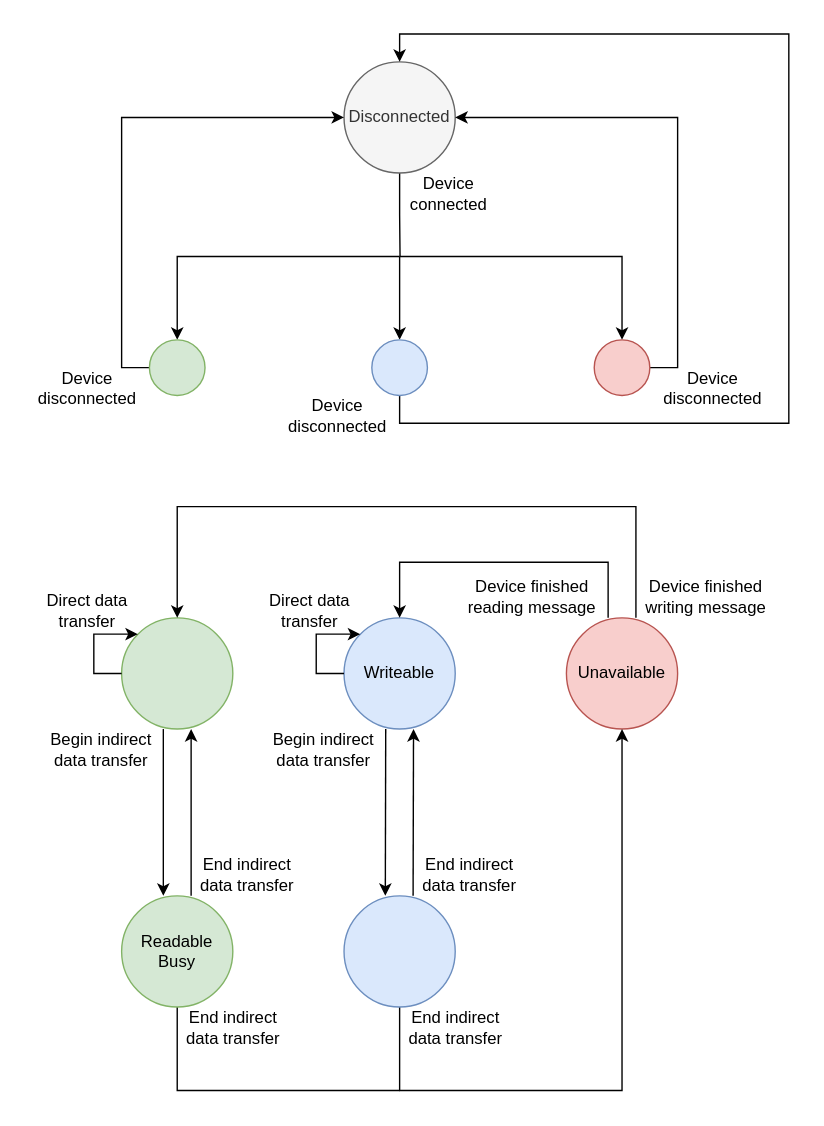
Image size: 824x1126. Some labels were removed from this diagram. Each missing label, with the box of its shape:
Readable: (120, 616, 233, 729)
Writeable Busy: (343, 894, 455, 1007)
